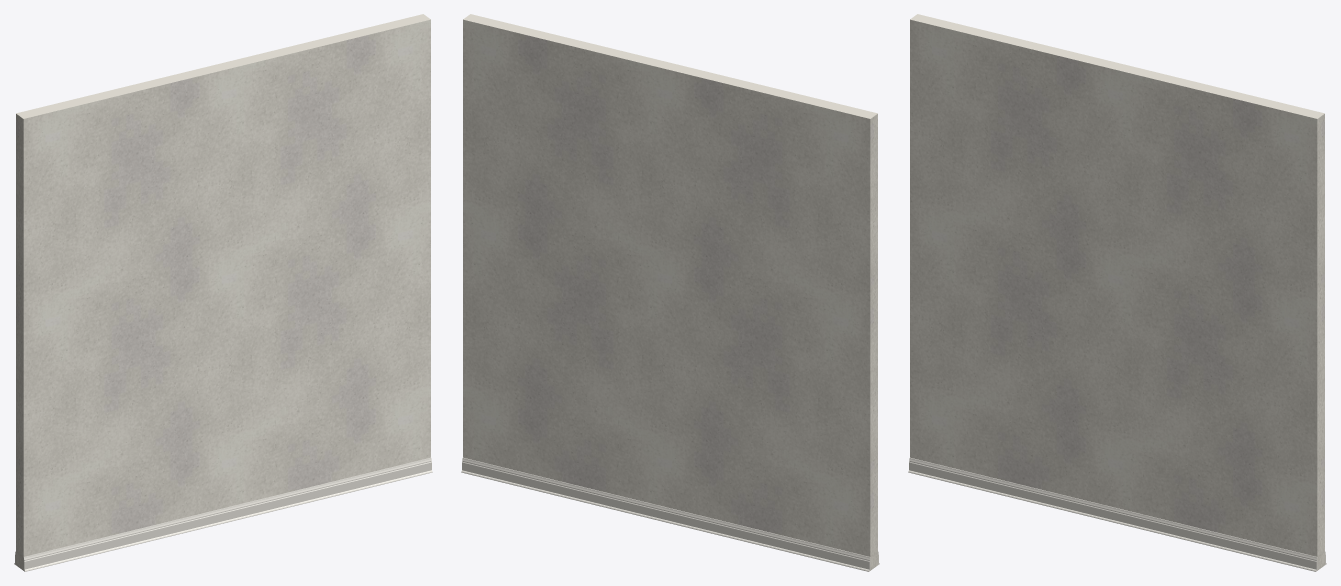
3 renders of one model, left to right at view 1: azimuth 30°, elevation 25°; view 2: azimuth 150°, elevation 25°; view 3: azimuth 330°, elevation 25°, orthographic.
Visible parts, largest first — view 1: pz_462_plaster, molduras; view 2: pz_462_plaster, molduras; view 3: pz_462_plaster, molduras.
Boxes of the visible parts, x1=… form: pz_462_plaster: x1=16, y1=14, x2=430, y2=570; molduras: x1=14, y1=457, x2=432, y2=571; pz_462_plaster: x1=463, y1=14, x2=877, y2=570; molduras: x1=461, y1=457, x2=879, y2=571; pz_462_plaster: x1=910, y1=14, x2=1324, y2=570; molduras: x1=908, y1=457, x2=1326, y2=571.
Bounding box in the file's own units: 4.63 × 4.9 × 0.21.
2 materials, 1 textured.
